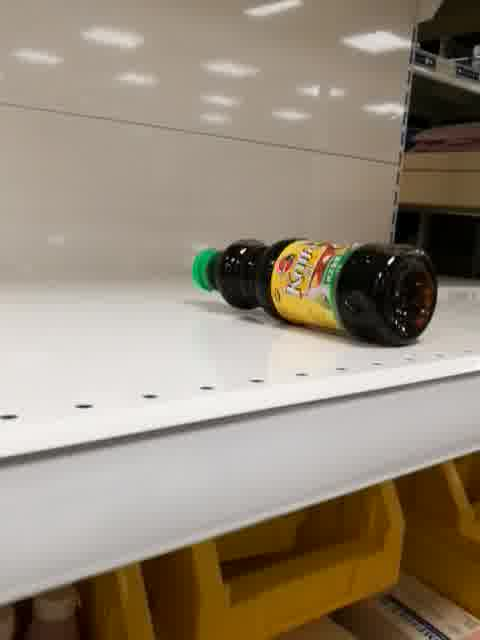cookingoil: (190, 235, 443, 348)
